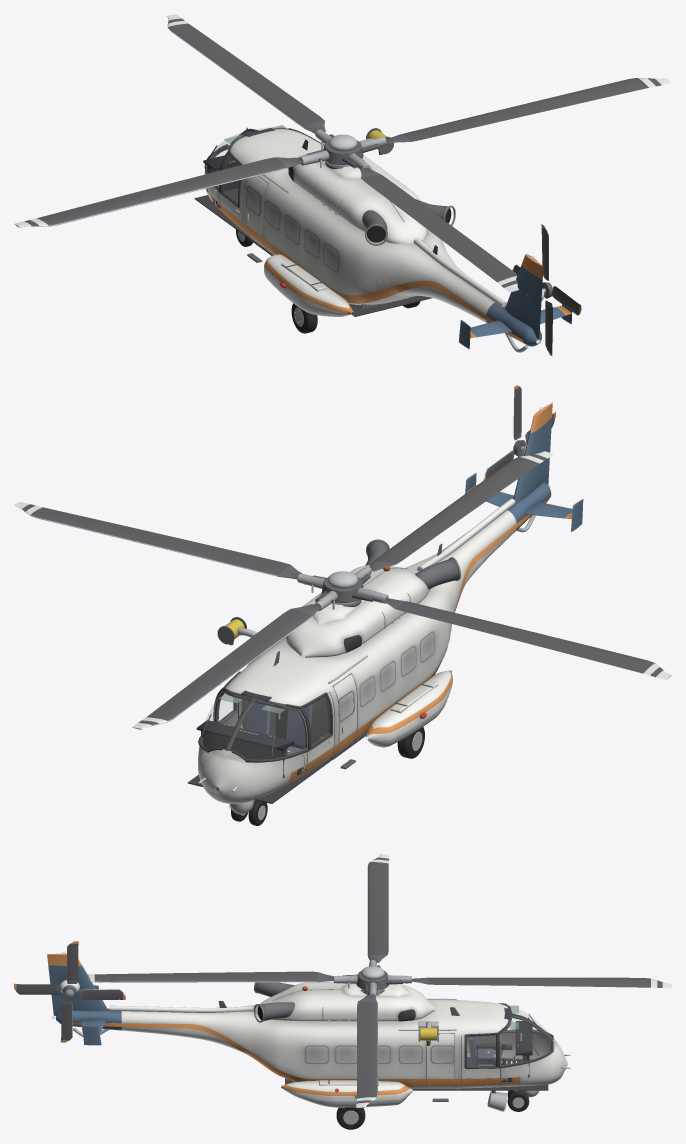
The model's file is northstar_175.glb.
The picture shows the model from 3 angles, top to bottom: view 1: azimuth 30°, elevation 25°; view 2: azimuth 150°, elevation 25°; view 3: azimuth 270°, elevation 25°; orthographic projection. The views are drawn at different scales.
Visible parts, largest first — view 1: Fuselage (game), Engine cowling (game), Main rotor blade.003 (game), Main rotor blade.002 (game), Main rotor blade (game), Main rotor blade.001 (game), Sponson (game), Fin (game), Cheatline.001 (game), Fuselage (door).003 (game), Drive shaft fairing (game), Fuselage (door).002 (game) (+2 smaller); view 2: Fuselage (game), Engine cowling (game), Main rotor blade.001 (game), Main rotor blade.002 (game), Main rotor blade.003 (game), Main rotor blade (game), Sponson (game), Fin (game), Fuselage (door).002 (game), Instrument panel (game), Glareshield (game), Cheatline.001 (game) (+7 smaller); view 3: Fuselage (game), Engine cowling (game), Main rotor blade (game), Main rotor blade.002 (game), Main rotor blade.003 (game), Main rotor blade.001 (game), Sponson.001 (game), Cheatline (game), Fin (game), Fuselage (door) (game), Fuselage (door).001 (game), Cockpit lining (game) (+9 smaller).
Boxes of the visible parts, left/top/right/bottom form: Fuselage (game): left=204, top=128, right=541, bottom=346; Engine cowling (game): left=288, top=151, right=427, bottom=243; Main rotor blade.003 (game): left=14, top=157, right=302, bottom=227; Main rotor blade.002 (game): left=166, top=14, right=325, bottom=133; Main rotor blade (game): left=360, top=168, right=519, bottom=292; Main rotor blade.001 (game): left=386, top=78, right=671, bottom=143; Sponson (game): left=264, top=254, right=353, bottom=316; Fin (game): left=505, top=254, right=543, bottom=338; Cheatline.001 (game): left=211, top=195, right=524, bottom=343; Fuselage (door).003 (game): left=246, top=176, right=266, bottom=246; Drive shaft fairing (game): left=413, top=238, right=506, bottom=307; Fuselage (door).002 (game): left=220, top=155, right=242, bottom=221; Fuselage (game): left=198, top=482, right=551, bottom=803; Engine cowling (game): left=286, top=565, right=430, bottom=657; Main rotor blade.001 (game): left=14, top=502, right=302, bottom=579; Main rotor blade.002 (game): left=132, top=604, right=319, bottom=729; Main rotor blade.003 (game): left=382, top=598, right=671, bottom=679; Main rotor blade (game): left=369, top=451, right=553, bottom=571; Sponson (game): left=365, top=670, right=452, bottom=747; Fin (game): left=513, top=403, right=552, bottom=502; Fuselage (door).002 (game): left=304, top=692, right=334, bottom=763; Instrument panel (game): left=201, top=731, right=287, bottom=778; Glareshield (game): left=196, top=720, right=293, bottom=750; Cheatline.001 (game): left=288, top=497, right=549, bottom=782; Fuselage (game): left=56, top=999, right=567, bottom=1088; Engine cowling (game): left=253, top=982, right=434, bottom=1021; Main rotor blade (game): left=87, top=971, right=333, bottom=982; Main rotor blade.002 (game): left=410, top=977, right=671, bottom=988; Main rotor blade.003 (game): left=367, top=854, right=389, bottom=962; Main rotor blade.001 (game): left=356, top=995, right=377, bottom=1107; Sponson.001 (game): left=281, top=1080, right=412, bottom=1107; Cheatline (game): left=72, top=1022, right=520, bottom=1086; Fin (game): left=47, top=953, right=107, bottom=1015; Fuselage (door) (game): left=461, top=1035, right=499, bottom=1086; Fuselage (door).001 (game): left=427, top=1035, right=454, bottom=1086; Cockpit lining (game): left=467, top=1032, right=555, bottom=1061.
Bounding box in the file's own units: 15 × 4.8 × 16.5.
